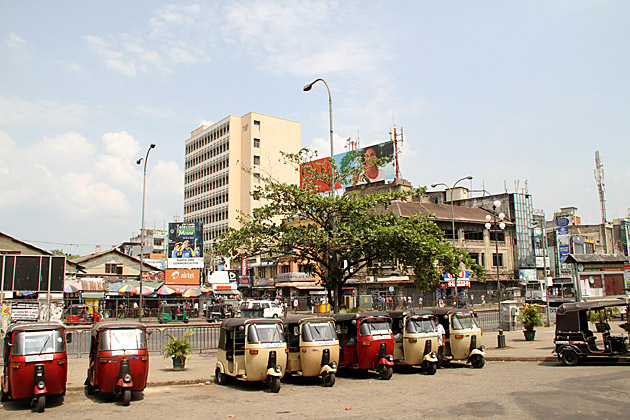tuk tuk: (3, 325, 71, 413), (84, 321, 151, 405), (214, 318, 288, 393), (553, 302, 630, 367), (339, 314, 395, 381), (287, 316, 338, 385), (396, 311, 439, 375), (442, 309, 487, 369), (64, 305, 101, 325), (158, 302, 190, 323), (205, 303, 237, 319)
